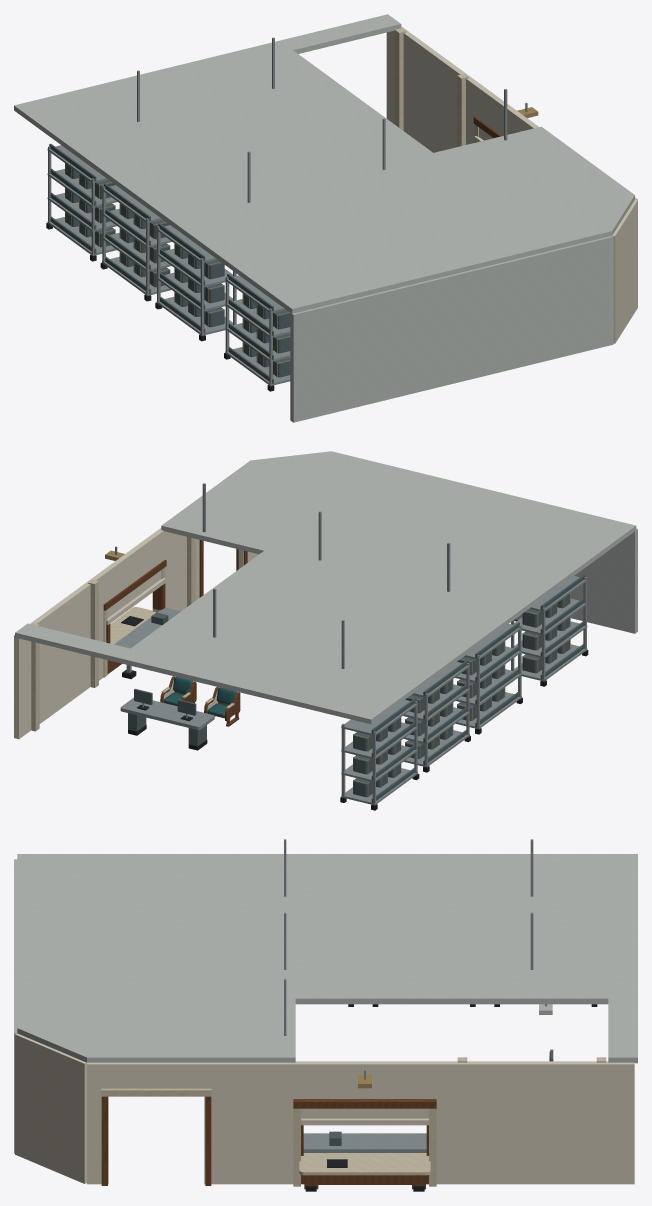
Rendered from G8_ARRIVALS_SERVICE_r003.glb.
3 renders of one model, top to bottom at view 1: azimuth 30°, elevation 25°; view 2: azimuth 150°, elevation 25°; view 3: azimuth 270°, elevation 25°, orthographic. The views are drawn at different scales.
Visible parts, largest first — view 1: G8A_BATCH_0055_D01_directory_01, G8A_BATCH_0058_D01_directory_01, G8A_BATCH_0061_D01_directory_01, G8A_BATCH_0031_D01_directory_01, G8A_BATCH_0030_D01_directory_01, G8A_BATCH_0066_D01_directory_01, G8A_BATCH_0069_D01_directory_01, G8A_BATCH_0065_D01_directory_01, G8A_BATCH_0046_D01_directory_01, G8A_BATCH_0063_D01_directory_01, G8A_BATCH_0042_D01_directory_01, G8A_BATCH_0040_D01_directory_01 (+6 smaller); view 2: G8A_BATCH_0055_D01_directory_01, G8A_BATCH_0061_D01_directory_01, G8A_BATCH_0031_D01_directory_01, G8A_BATCH_0058_D01_directory_01, G8A_BATCH_0032_D01_directory_01, G8A_BATCH_0063_D01_directory_01, G8A_BATCH_0069_D01_directory_01, G8A_BATCH_0065_D01_directory_01, G8A_BATCH_0066_D01_directory_01, G8A_BATCH_0033_D01_directory_01, G8A_BATCH_0043_D01_directory_01, G8A_BATCH_0060_D01_directory_01 (+17 smaller); view 3: G8A_BATCH_0055_D01_directory_01, G8A_BATCH_0031_D01_directory_01, G8A_BATCH_0061_D01_directory_01, G8A_BATCH_0033_D01_directory_01, G8A_BATCH_0030_D01_directory_01, G8A_BATCH_0032_D01_directory_01, G8A_BATCH_0034_D01_directory_01, G8A_BATCH_0094_D01_directory_01, G8A_BATCH_0097_D01_directory_01, G8A_BATCH_0082_D01_directory_01, G8A_BATCH_0060_D01_directory_01, G8A_BATCH_0095_D01_directory_01 (+4 smaller).
Boxes of the visible parts, x1,y1,x2,y2 form: G8A_BATCH_0055_D01_directory_01: [14, 40, 558, 313]; G8A_BATCH_0058_D01_directory_01: [290, 236, 613, 422]; G8A_BATCH_0061_D01_directory_01: [434, 126, 634, 248]; G8A_BATCH_0031_D01_directory_01: [386, 26, 483, 152]; G8A_BATCH_0030_D01_directory_01: [612, 199, 637, 343]; G8A_BATCH_0066_D01_directory_01: [156, 225, 232, 335]; G8A_BATCH_0069_D01_directory_01: [225, 275, 290, 385]; G8A_BATCH_0065_D01_directory_01: [102, 185, 171, 295]; G8A_BATCH_0046_D01_directory_01: [227, 273, 290, 383]; G8A_BATCH_0063_D01_directory_01: [47, 145, 117, 255]; G8A_BATCH_0042_D01_directory_01: [104, 183, 169, 293]; G8A_BATCH_0040_D01_directory_01: [49, 143, 115, 253]; G8A_BATCH_0055_D01_directory_01: [118, 464, 636, 724]; G8A_BATCH_0061_D01_directory_01: [161, 451, 382, 554]; G8A_BATCH_0031_D01_directory_01: [14, 571, 106, 739]; G8A_BATCH_0058_D01_directory_01: [570, 528, 637, 633]; G8A_BATCH_0032_D01_directory_01: [102, 531, 165, 624]; G8A_BATCH_0063_D01_directory_01: [341, 700, 417, 805]; G8A_BATCH_0069_D01_directory_01: [514, 576, 587, 681]; G8A_BATCH_0065_D01_directory_01: [403, 662, 469, 767]; G8A_BATCH_0066_D01_directory_01: [455, 624, 521, 729]; G8A_BATCH_0033_D01_directory_01: [157, 528, 199, 611]; G8A_BATCH_0043_D01_directory_01: [457, 622, 519, 727]; G8A_BATCH_0060_D01_directory_01: [15, 623, 130, 662]; G8A_BATCH_0055_D01_directory_01: [17, 854, 637, 1004]; G8A_BATCH_0031_D01_directory_01: [429, 1061, 634, 1184]; G8A_BATCH_0061_D01_directory_01: [17, 998, 295, 1062]; G8A_BATCH_0033_D01_directory_01: [204, 1061, 300, 1184]; G8A_BATCH_0030_D01_directory_01: [15, 1033, 86, 1183]; G8A_BATCH_0032_D01_directory_01: [300, 1061, 429, 1125]; G8A_BATCH_0034_D01_directory_01: [87, 1062, 204, 1184]; G8A_BATCH_0094_D01_directory_01: [293, 1108, 430, 1186]; G8A_BATCH_0097_D01_directory_01: [293, 1099, 436, 1189]; G8A_BATCH_0082_D01_directory_01: [303, 1133, 426, 1152]; G8A_BATCH_0060_D01_directory_01: [608, 998, 637, 1063]; G8A_BATCH_0095_D01_directory_01: [101, 1088, 211, 1096].
Size of the model in its own units: 14.84 by 5.76 by 17.95.
Materials: 17 (16 with a texture image).
